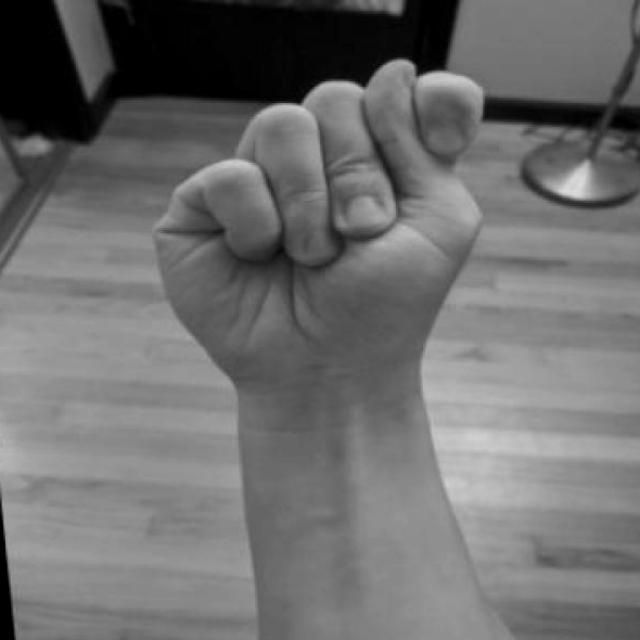T: (147, 48, 538, 461)
